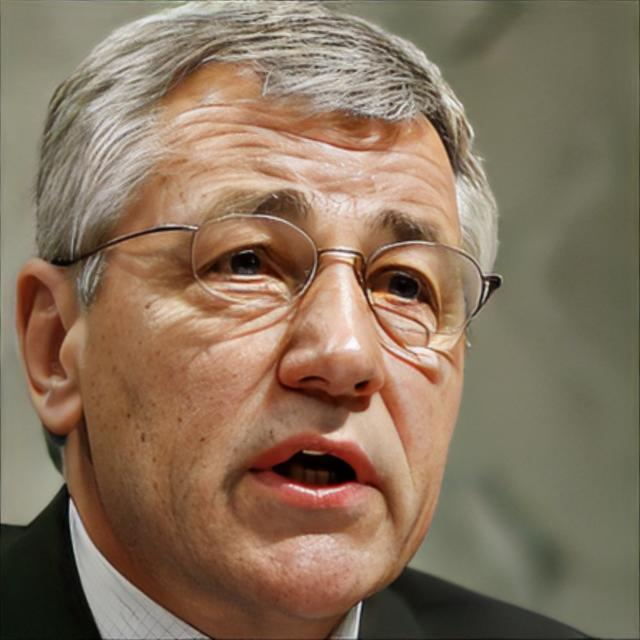sad: (78, 60, 467, 619)
